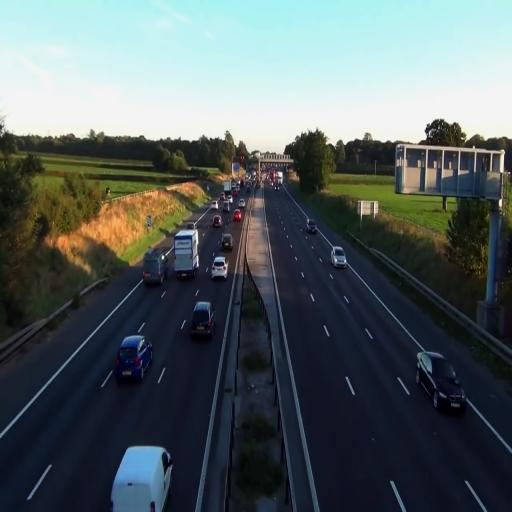vehicle: (110, 443, 173, 512), (416, 349, 466, 413), (115, 335, 153, 382), (142, 244, 174, 289), (173, 228, 199, 280), (190, 301, 216, 340), (142, 249, 166, 288), (211, 253, 228, 280), (330, 245, 347, 267), (220, 232, 232, 252), (210, 210, 222, 228), (233, 207, 243, 223), (306, 221, 317, 235)
